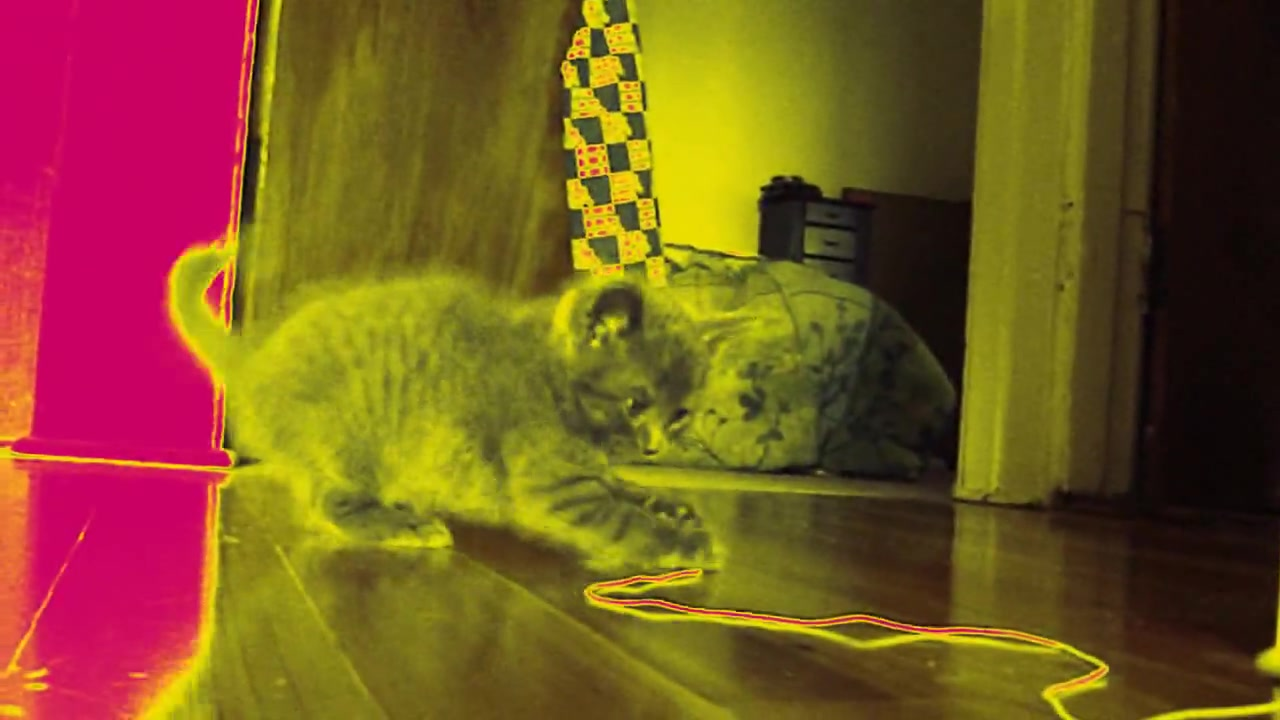cat: (171, 237, 728, 578)
